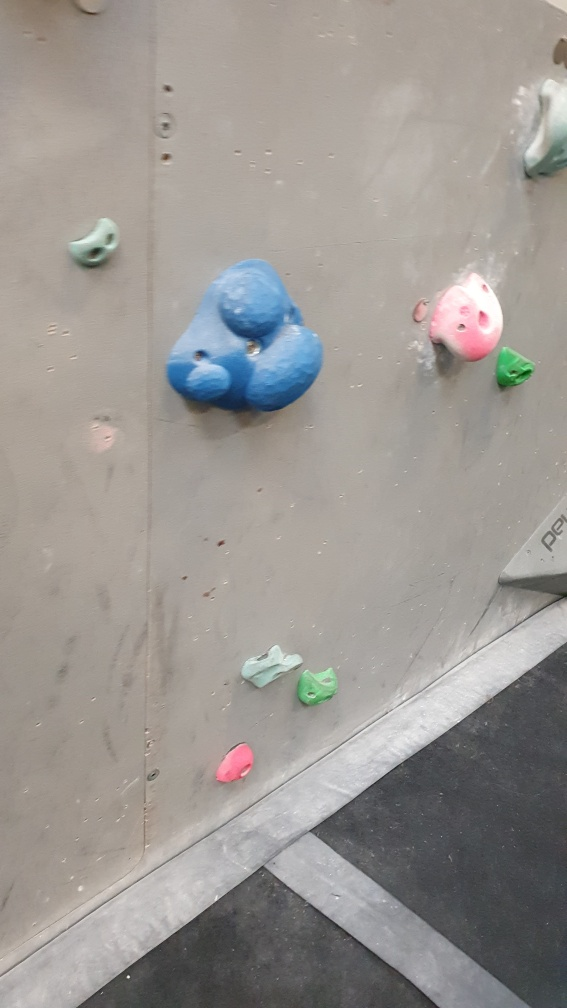Sloper: (167, 256, 325, 414)
